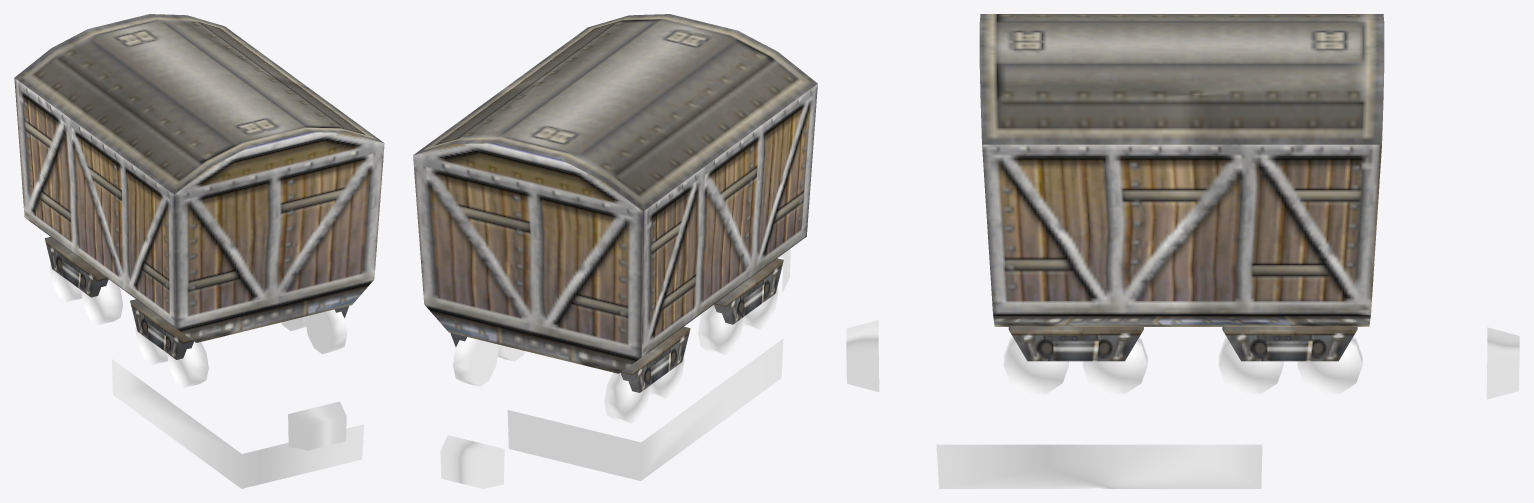
3 renders of one model, left to right at view 1: azimuth 30°, elevation 25°; view 2: azimuth 150°, elevation 25°; view 3: azimuth 270°, elevation 25°, orthographic. The views are drawn at different scales.
Visible parts, largest first — view 1: car_freight, engine, engine_attachy02, Box28, Box30, engine_Lw04, engine_wf07, engine_wf08, engine_wf09, engine_wf06; view 2: car_freight, engine, engine_ attachy03, Box30, Box28, engine_Lwf06, engine_wf09, engine_wf06, engine_wf07, engine_wf08; view 3: car_freight, engine, Box29, Box27, engine_ attachy03, engine_attachy02, engine_Lwf06, engine_Lw04, engine_Lwf05, engine_Lw05.
Boxes of the visible parts, x1,y1,x2,y2 form: car_freight: [14, 14, 384, 342]; engine: [112, 359, 363, 488]; engine_attachy02: [288, 401, 346, 450]; Box28: [130, 299, 193, 359]; Box30: [44, 237, 108, 297]; engine_Lw04: [305, 309, 347, 354]; engine_wf07: [167, 341, 208, 387]; engine_wf08: [81, 279, 122, 325]; engine_wf09: [49, 263, 82, 301]; engine_wf06: [135, 326, 167, 364]; car_freight: [413, 14, 817, 373]; engine: [507, 339, 783, 480]; engine_ attachy03: [440, 435, 504, 488]; Box30: [620, 326, 690, 392]; Box28: [714, 258, 783, 324]; engine_Lwf06: [453, 337, 498, 386]; engine_wf09: [604, 372, 649, 423]; engine_wf06: [698, 305, 743, 354]; engine_wf07: [742, 287, 778, 329]; engine_wf08: [649, 357, 684, 398]; car_freight: [979, 14, 1384, 326]; engine: [936, 444, 1262, 488]; Box29: [1222, 326, 1357, 361]; Box27: [1008, 326, 1143, 361]; engine_ attachy03: [1486, 327, 1519, 399]; engine_attachy02: [846, 320, 879, 391]; engine_Lwf06: [1297, 337, 1362, 393]; engine_Lw04: [1003, 337, 1068, 393]; engine_Lwf05: [1082, 337, 1147, 393]; engine_Lw05: [1218, 337, 1283, 393].
Size of the model in its own units: 131 by 192 by 289.
16 materials, 5 textured.
